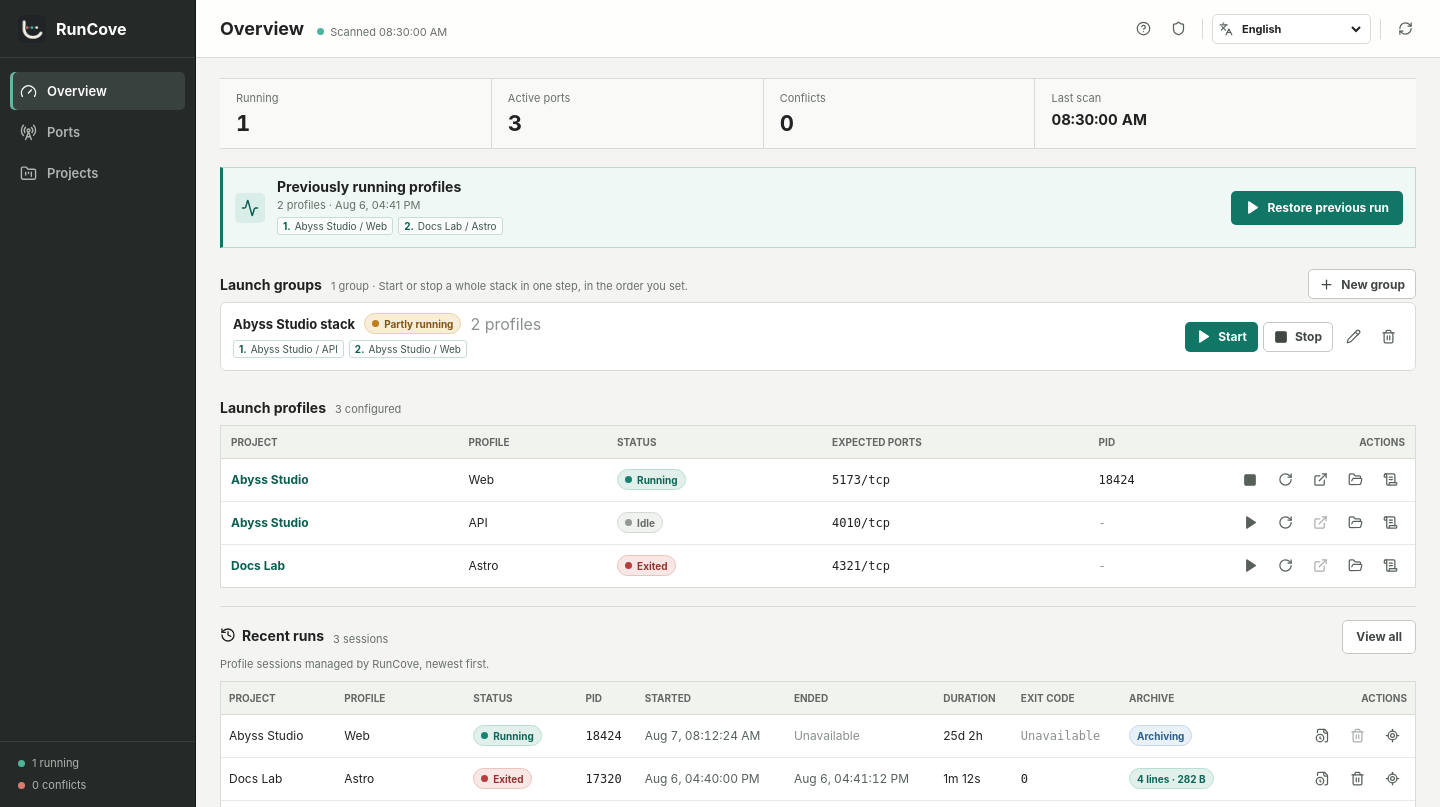
Test: RunCove launch groups › refuses a group start while a restore is walking the same profiles
The image size is (1440, 807).
Check: the heading "Launch groups" is shown, box x1=220 y1=276 x2=322 y2=292
Click the button "Restore previous run" at (1317, 208), box x1=1231 y1=190 x2=1403 y2=224
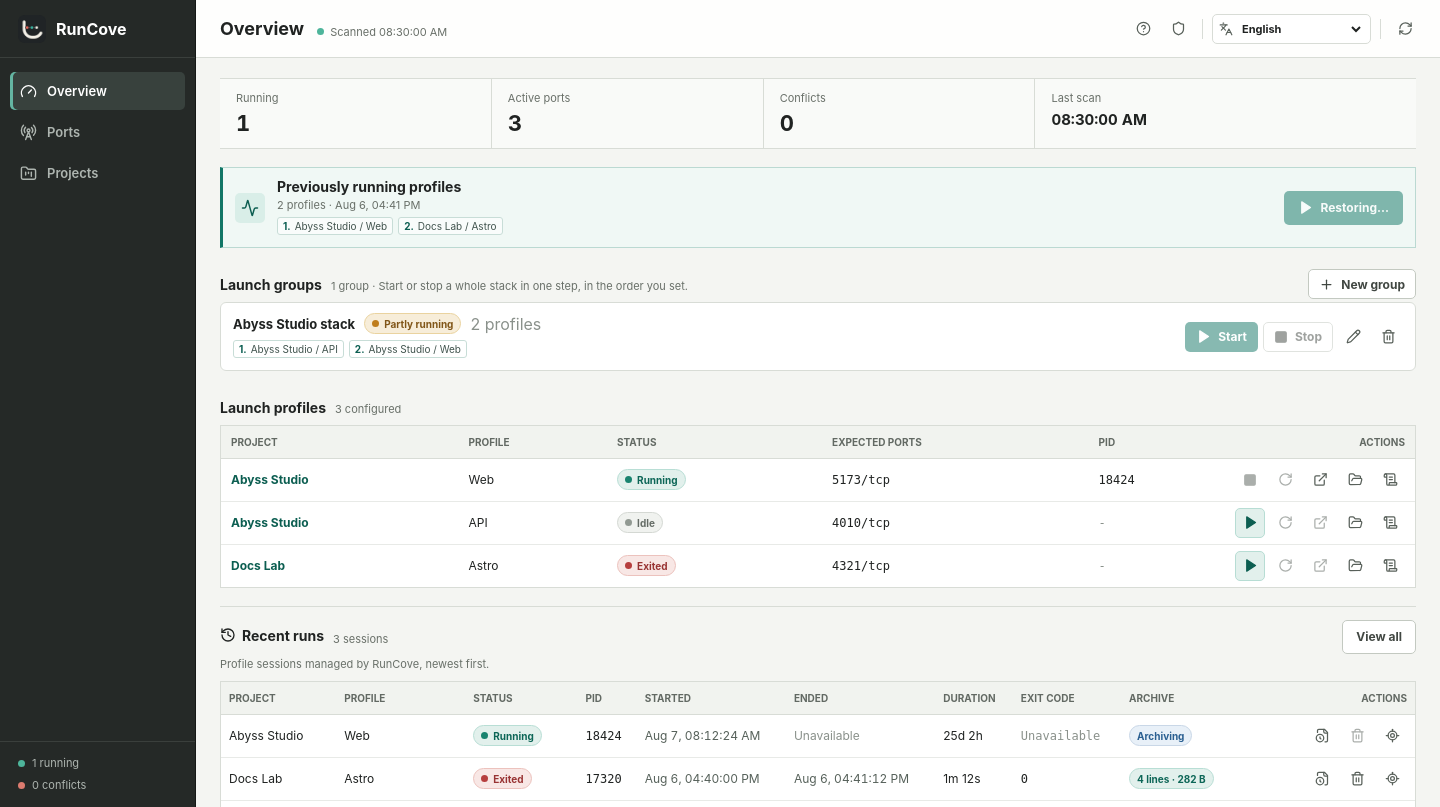
Check: the button with aria-label "Start Abyss Studio stack" is disabled
Click the button with aria-label "Start Abyss Studio stack" at (1222, 336), box x1=1185 y1=322 x2=1258 y2=352
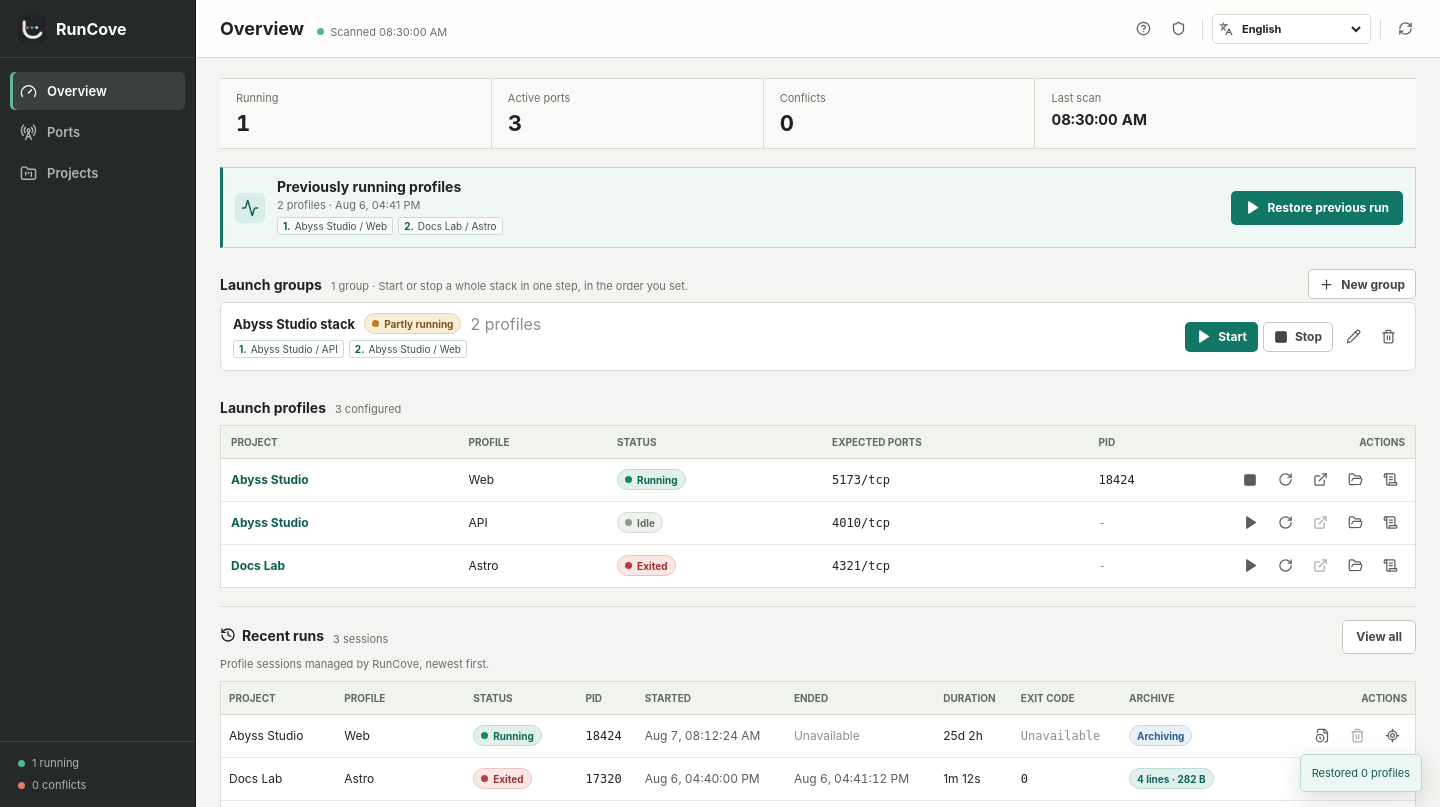
Check: the button with aria-label "Start Abyss Studio stack" is enabled, box x1=1185 y1=322 x2=1258 y2=352
